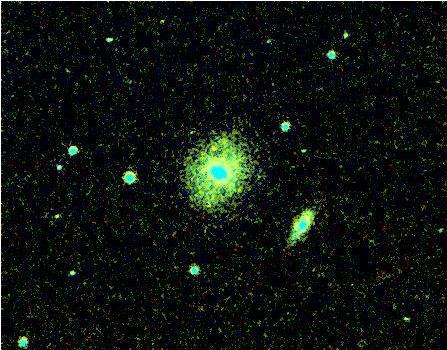star: (198, 134, 228, 164)
